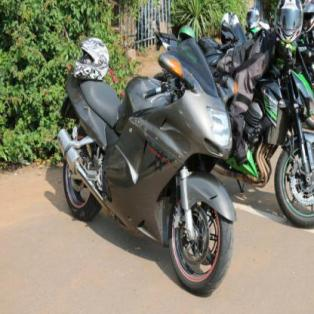Motocicleta: (55, 30, 234, 299)
